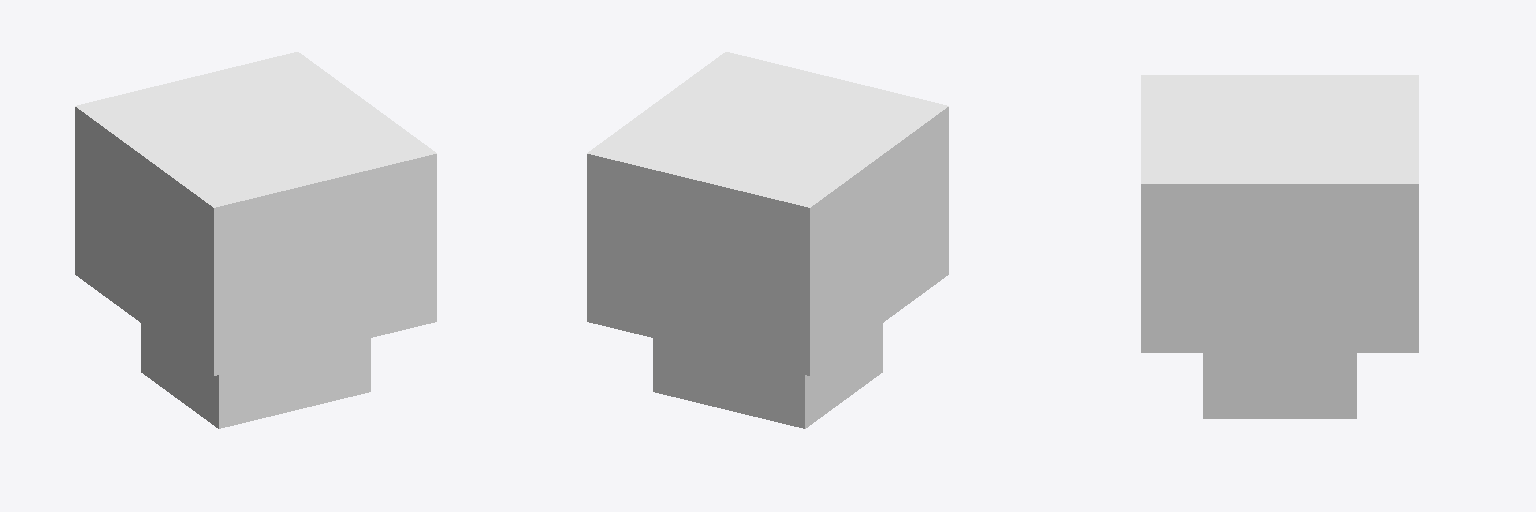
File: Arbol3.obj
3 views of the same model, side by side, from view 1: azimuth 30°, elevation 25°; view 2: azimuth 150°, elevation 25°; view 3: azimuth 270°, elevation 25° (orthographic).
Bounding box in the file's own units: 25 × 27 × 27.